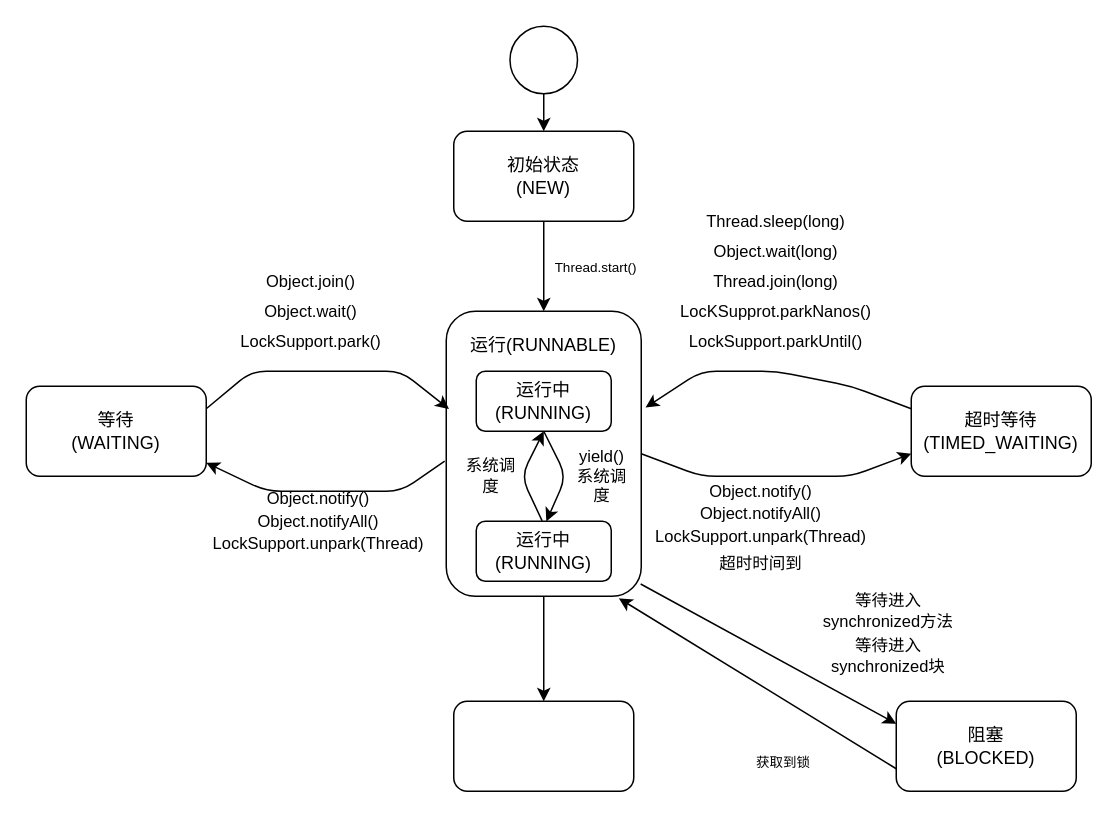
This 1118x818 diagram has some shape labels left out. The box of each missing label's shape, as (x1, y1, x2, y2) in pixels:
实例化: (508, 25, 578, 94)
终止 (TERMINATED): (452, 700, 634, 791)
